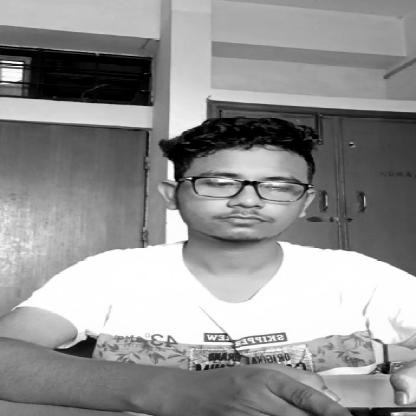Normal: (161, 120, 328, 244)
